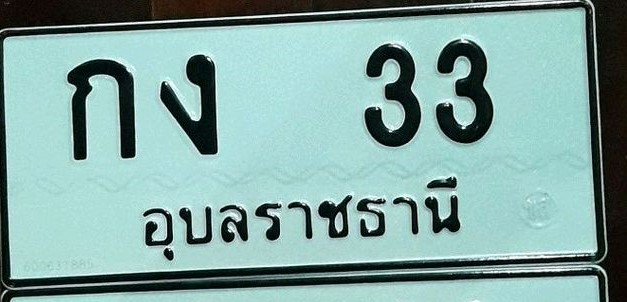txt01: (63, 55, 140, 164)
txt05: (158, 51, 220, 159)
